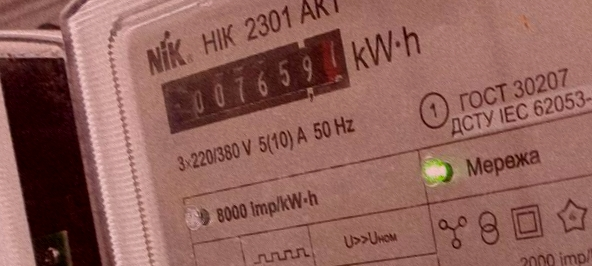0: (189, 84, 206, 114), (210, 79, 226, 108)
1: (323, 38, 339, 70)
5: (273, 56, 292, 89)
6: (253, 66, 269, 98)
7: (230, 71, 248, 104)
9: (297, 50, 316, 85)
screen: (141, 18, 372, 141)
